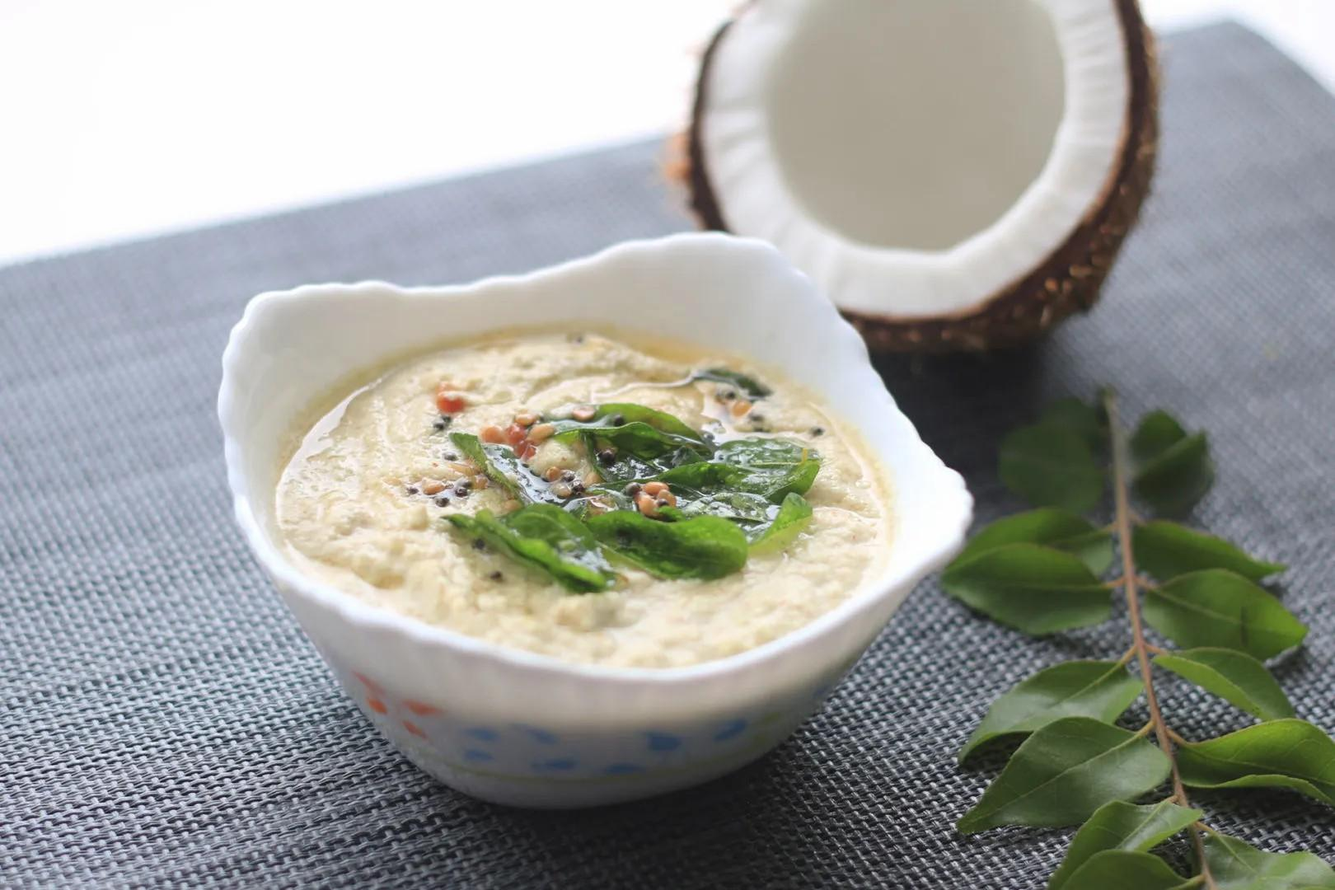CoconutChutney: (277, 329, 889, 660)
